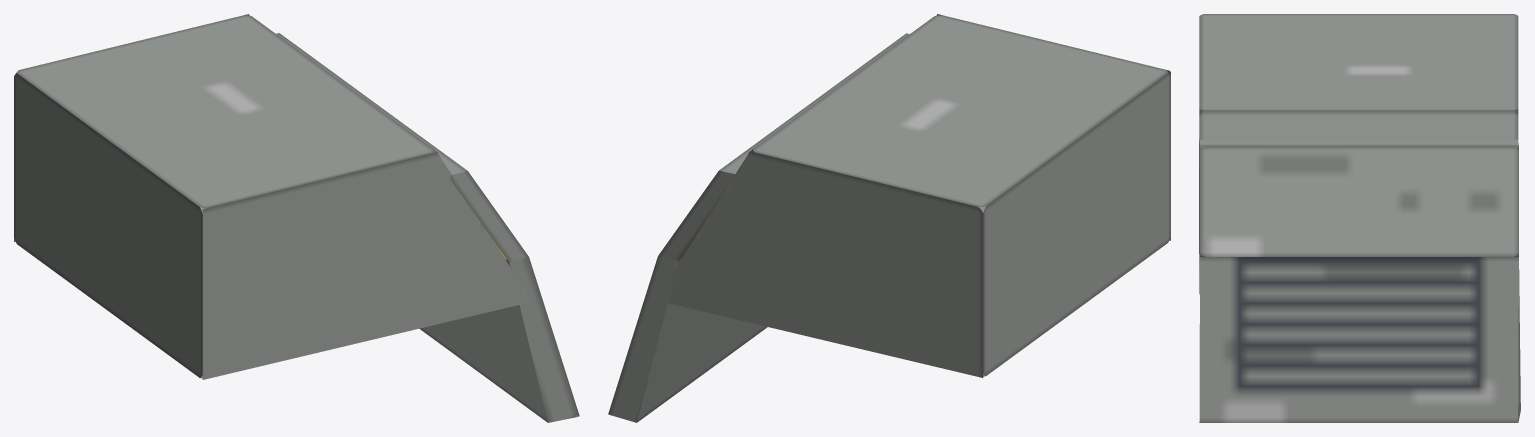
The model's file is df4d_roof_d.obj.
The picture shows the model from 3 angles, left to right: view 1: azimuth 30°, elevation 25°; view 2: azimuth 150°, elevation 25°; view 3: azimuth 270°, elevation 25°; orthographic projection. The views are drawn at different scales.
Parts seen in each view (by area): view 1: df4d_roof_d; view 2: df4d_roof_d; view 3: df4d_roof_d.
Boxes of the visible parts, bbox=[...] form: df4d_roof_d: bbox=[14, 14, 579, 422]; df4d_roof_d: bbox=[608, 14, 1170, 422]; df4d_roof_d: bbox=[1199, 14, 1520, 422].
Bounding box in the file's own units: 1.16 × 0.8763 × 1.01.
